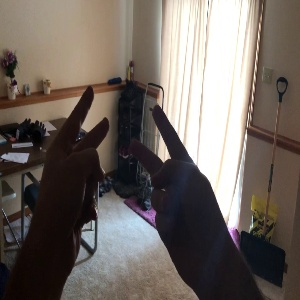hand: (129, 105, 237, 262), (32, 88, 109, 249)
